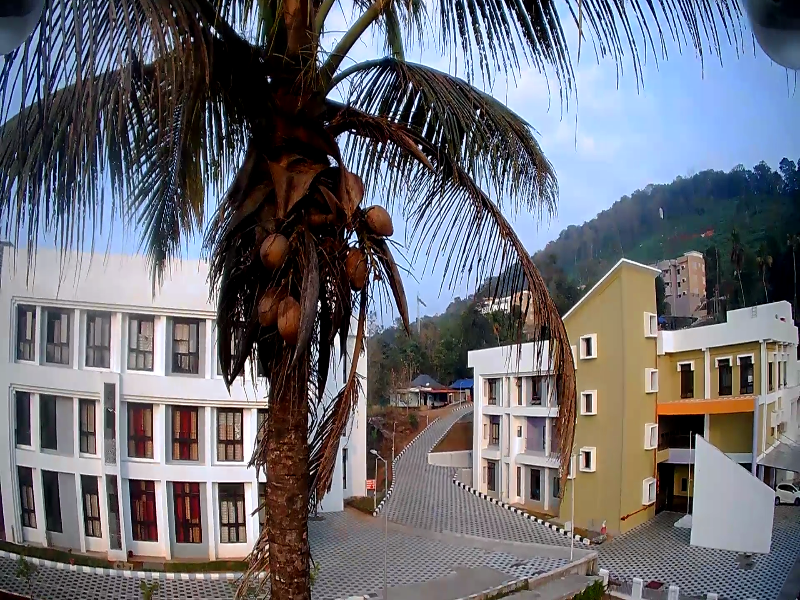coconut: (275, 289, 299, 338), (257, 228, 287, 264), (367, 207, 401, 235), (346, 243, 365, 288), (246, 286, 267, 323)
